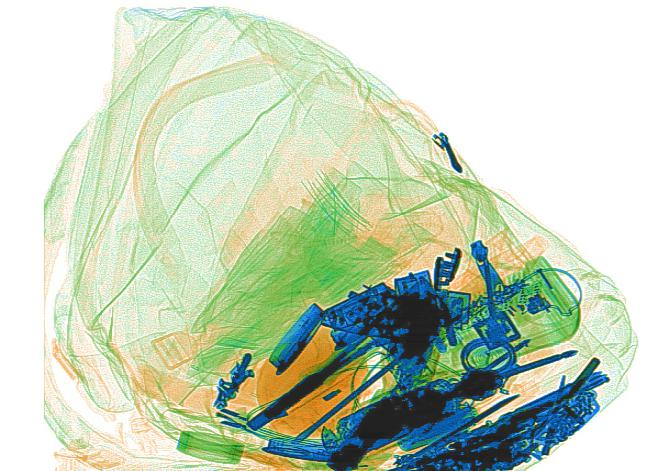battery: (385, 379, 478, 453)
